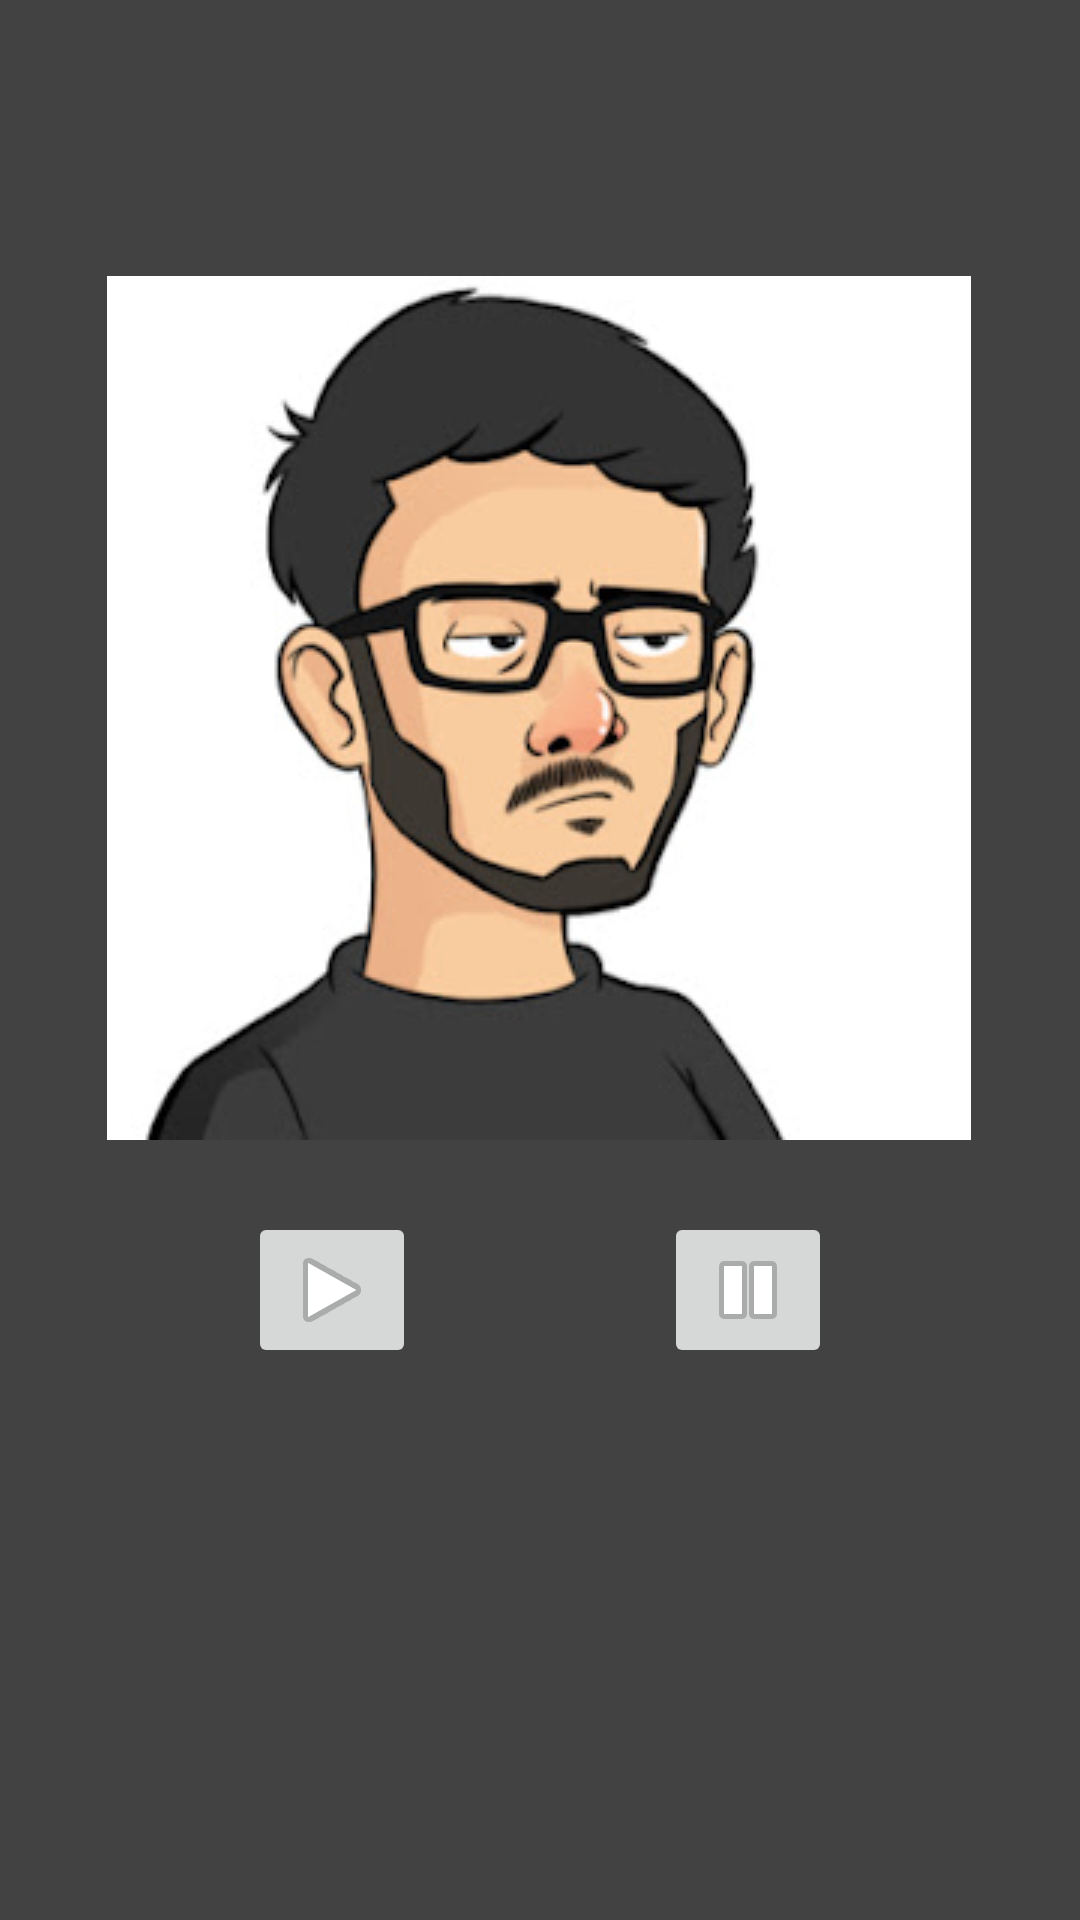

Named icons in this screenshot (1080 x 1920) and their centers, (x=x, y=y):
pause: (x=748, y=1290)
play: (x=332, y=1290)
